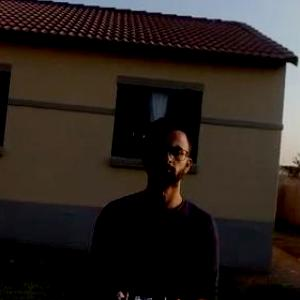follow: (76, 111, 221, 299)
